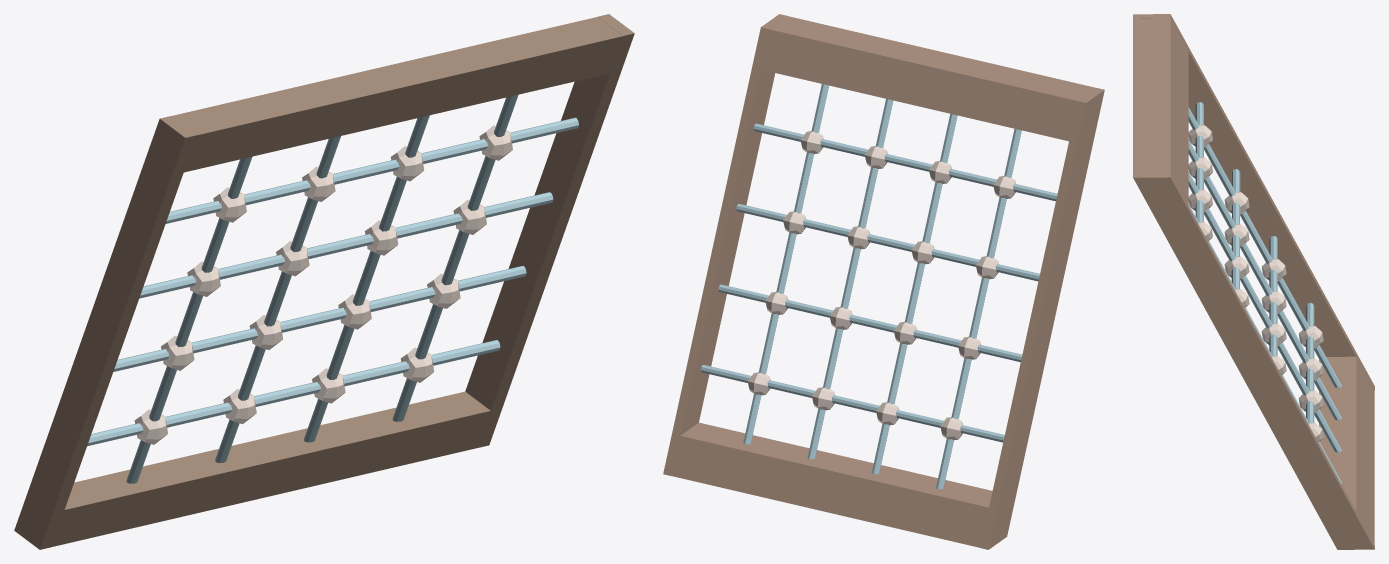
The model's file is Playground_climbing.fbx.
3 renders of one model, left to right at view 1: azimuth 30°, elevation 25°; view 2: azimuth 150°, elevation 25°; view 3: azimuth 270°, elevation 25°, orthographic. The views are drawn at different scales.
Visible parts, largest first — view 1: Playground_climbing; view 2: Playground_climbing; view 3: Playground_climbing.
Part boxes in pixels (left/top/right/bottom): Playground_climbing: left=14, top=14, right=634, bottom=549; Playground_climbing: left=663, top=14, right=1104, bottom=549; Playground_climbing: left=1133, top=14, right=1374, bottom=549.
Size of the model in its own units: 120 by 131 by 75.72.
